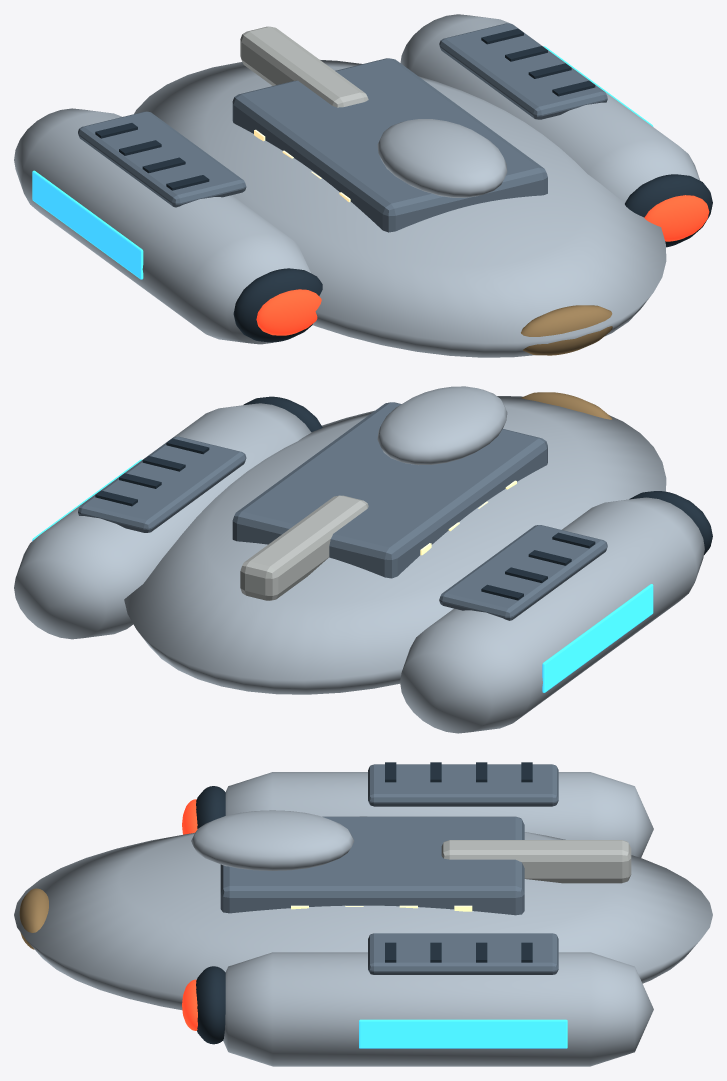
Rendered from Escort_LOD1.glb.
The picture shows the model from 3 angles, top to bottom: view 1: azimuth 30°, elevation 25°; view 2: azimuth 150°, elevation 25°; view 3: azimuth 270°, elevation 25°; orthographic projection. The views are drawn at different scales.
Parts seen in each view (by area): view 1: Escort_LOD1; view 2: Escort_LOD1; view 3: Escort_LOD1.
Part boxes in pixels (x1,y1,x2,y2): Escort_LOD1: (14,14,712,357); Escort_LOD1: (14,386,712,733); Escort_LOD1: (14,762,712,1066).
Bounding box in the file's own units: 138 × 39.74 × 170.
